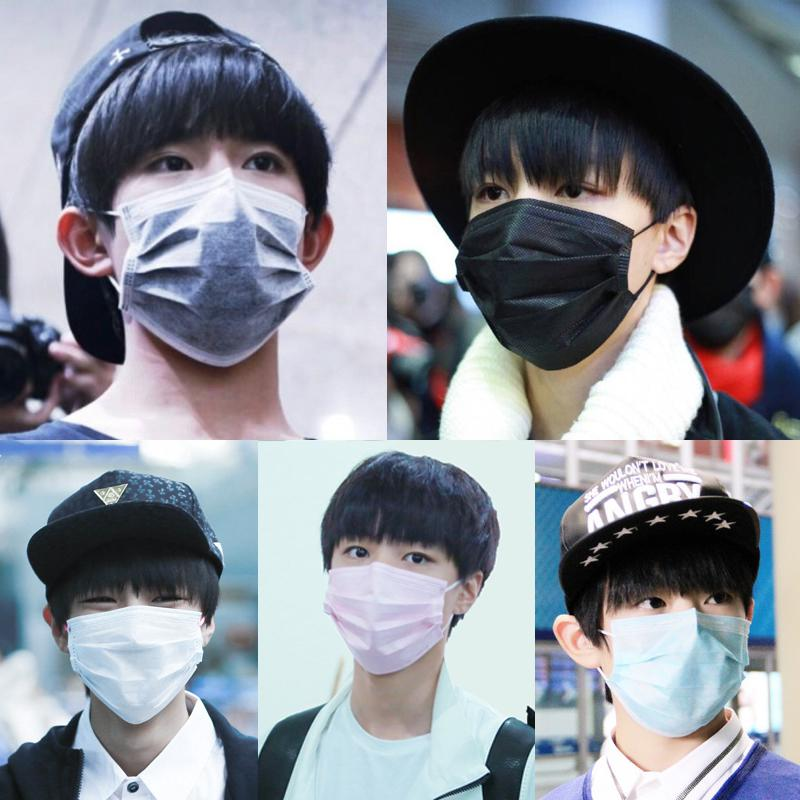OK: (112, 131, 311, 330), (465, 146, 650, 352), (599, 566, 744, 727), (71, 559, 213, 716), (331, 529, 452, 666)
